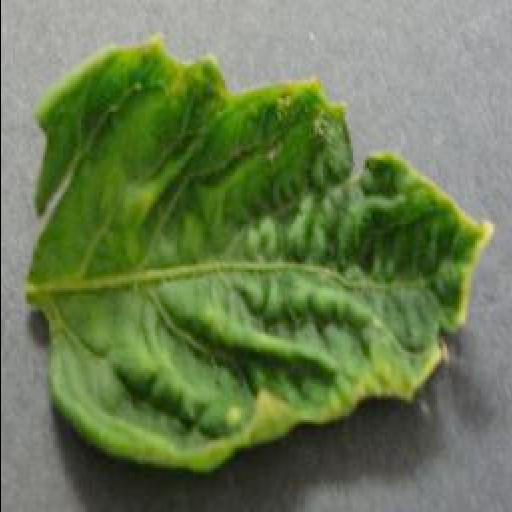disease_tomato: (30, 38, 494, 474)
